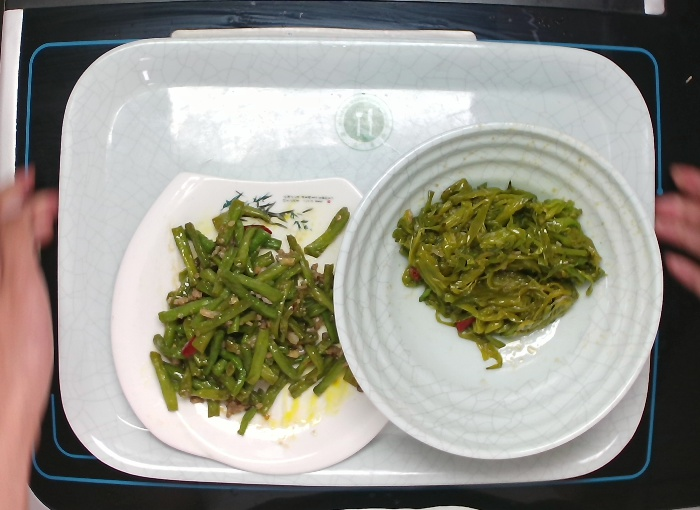JYsf-Da_Tang_Wan: (320, 112, 665, 462)
JYsf-Mian_Pan: (108, 168, 410, 478)
